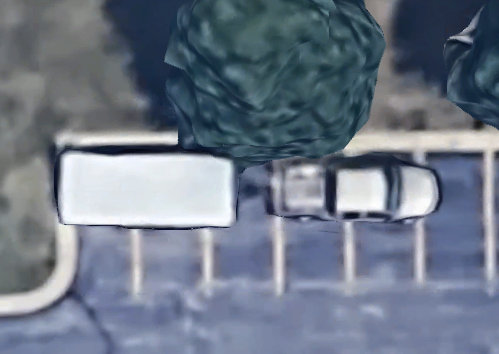Occupied: (135, 143, 209, 295), (208, 142, 280, 295), (278, 143, 350, 295), (420, 143, 490, 295), (66, 143, 135, 296), (350, 143, 419, 295)
